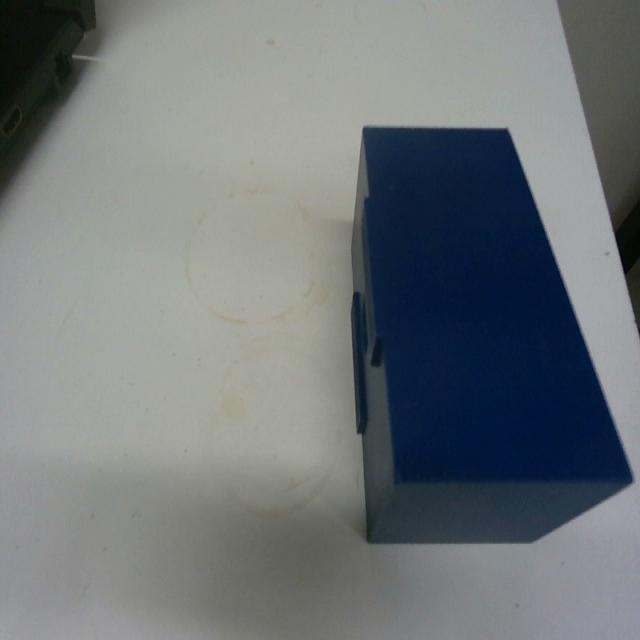Blue Cuboid: (347, 120, 633, 545)
